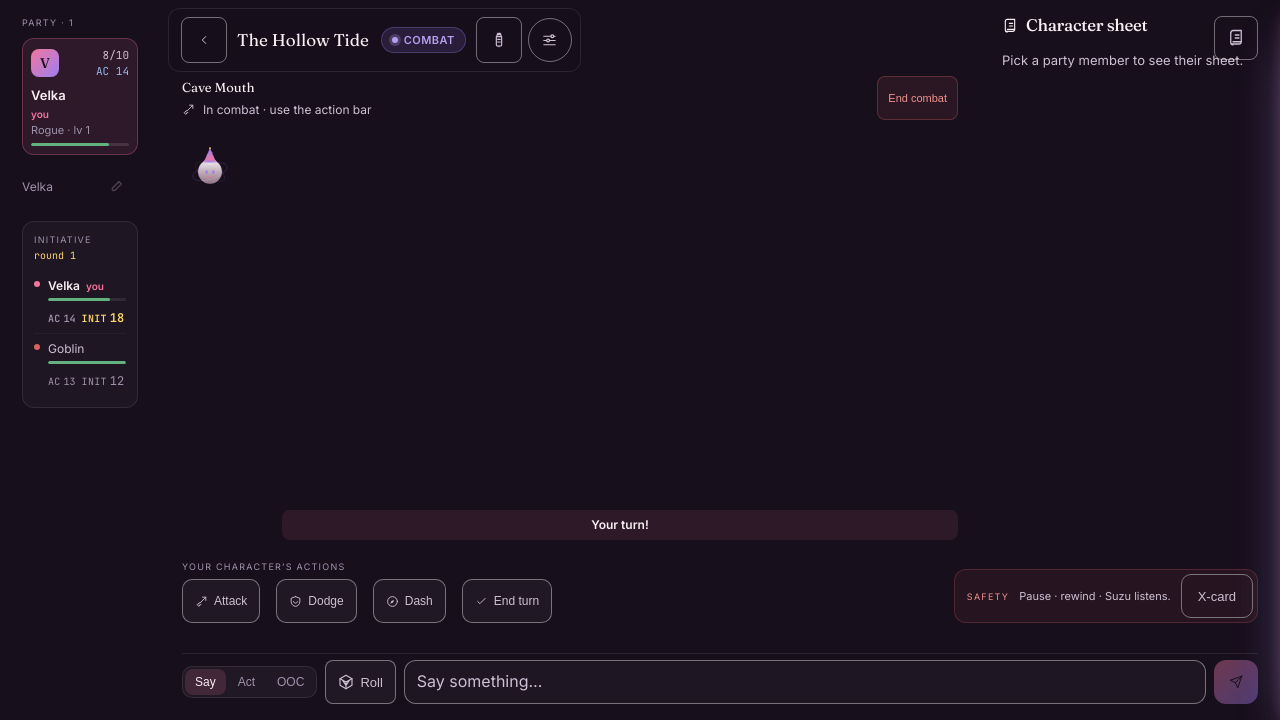
it: CUI-11 — refused action surfaces reason › engine not_your_turn → shows plain-English reason in the UI
Expected: the text "The Hollow Tide" is shown, [237,27,369,53]
Click the button "Attack".
click(221, 601)  # box [182,579,260,623]
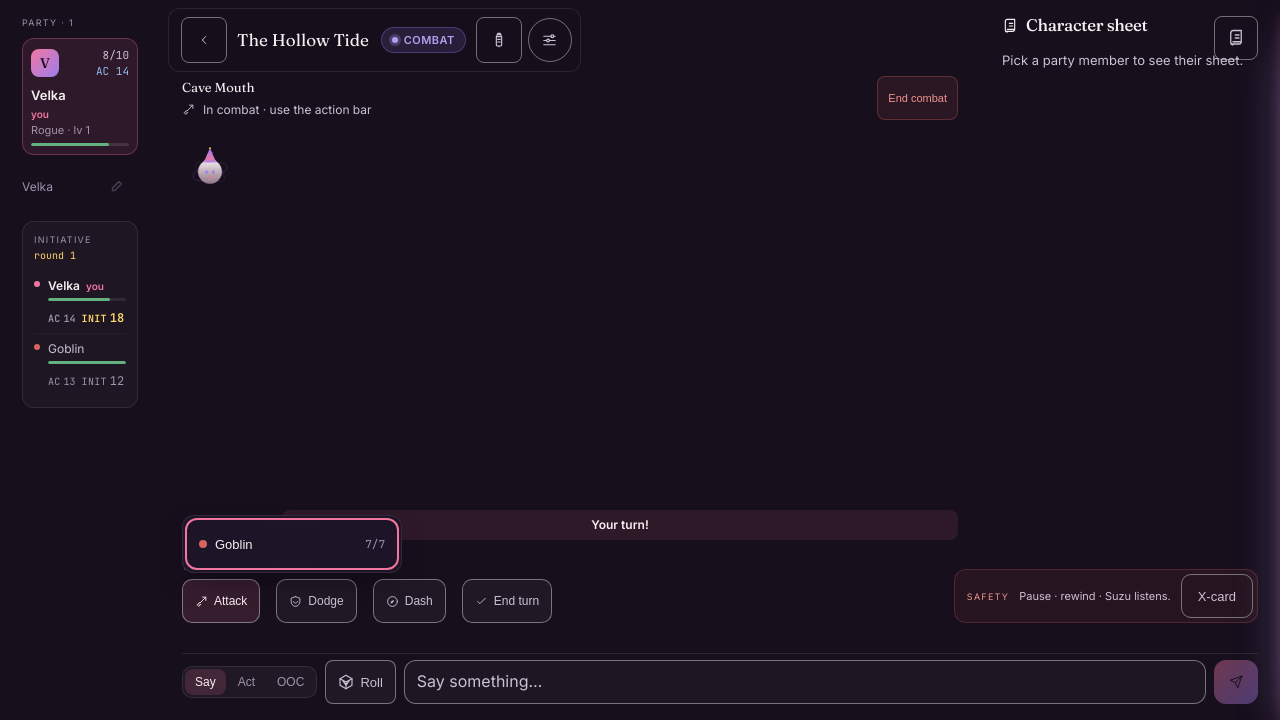
Result: the menu is shown at [182,515,402,573]
Click the menu item "Goblin 7/7".
click(292, 544)  # box [189,522,395,566]
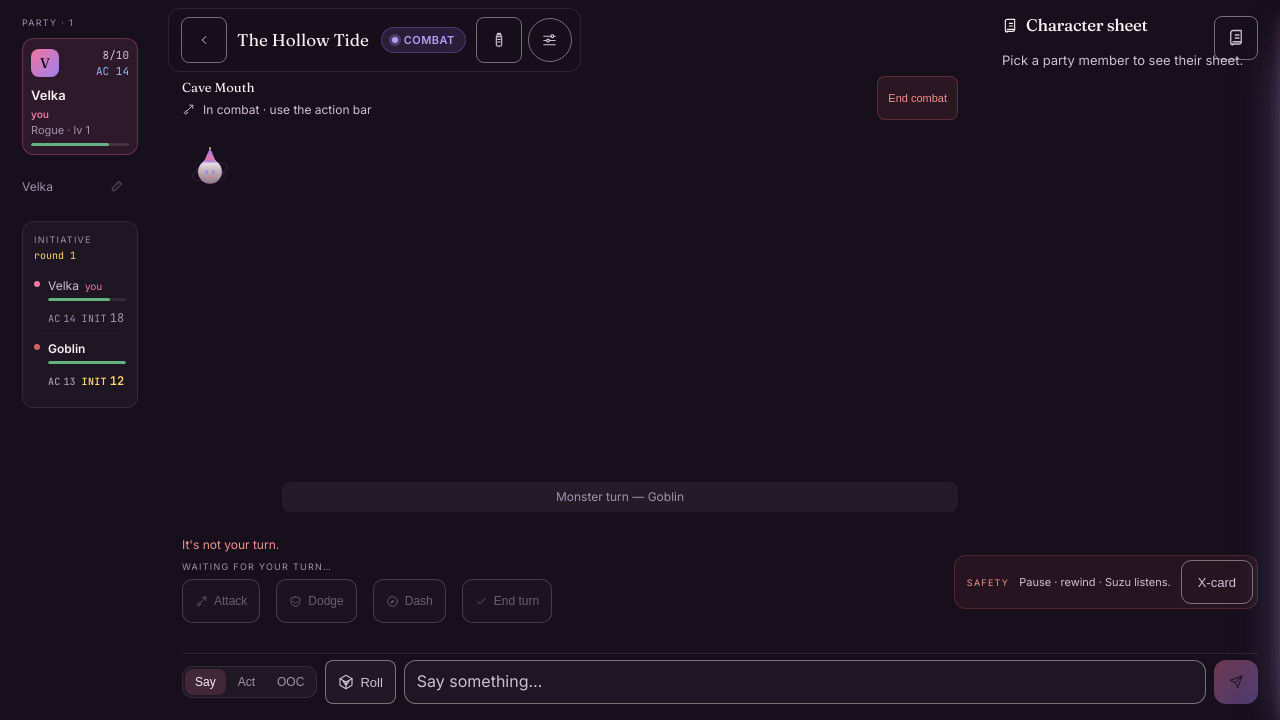
Result: the text "It's not your turn." is shown at [182,536,279,552]
